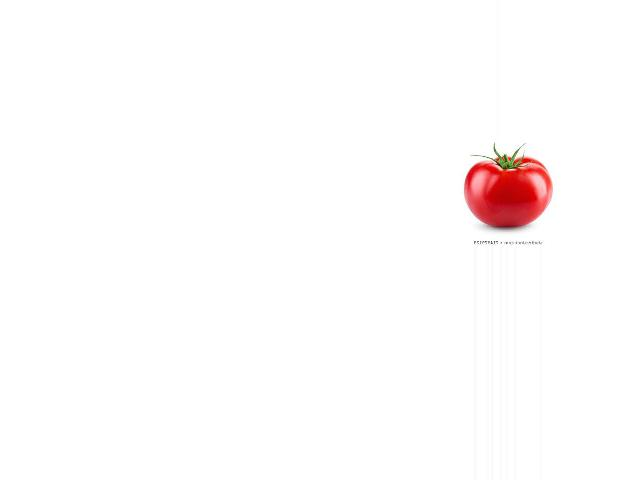tomato: (463, 157, 552, 226)
